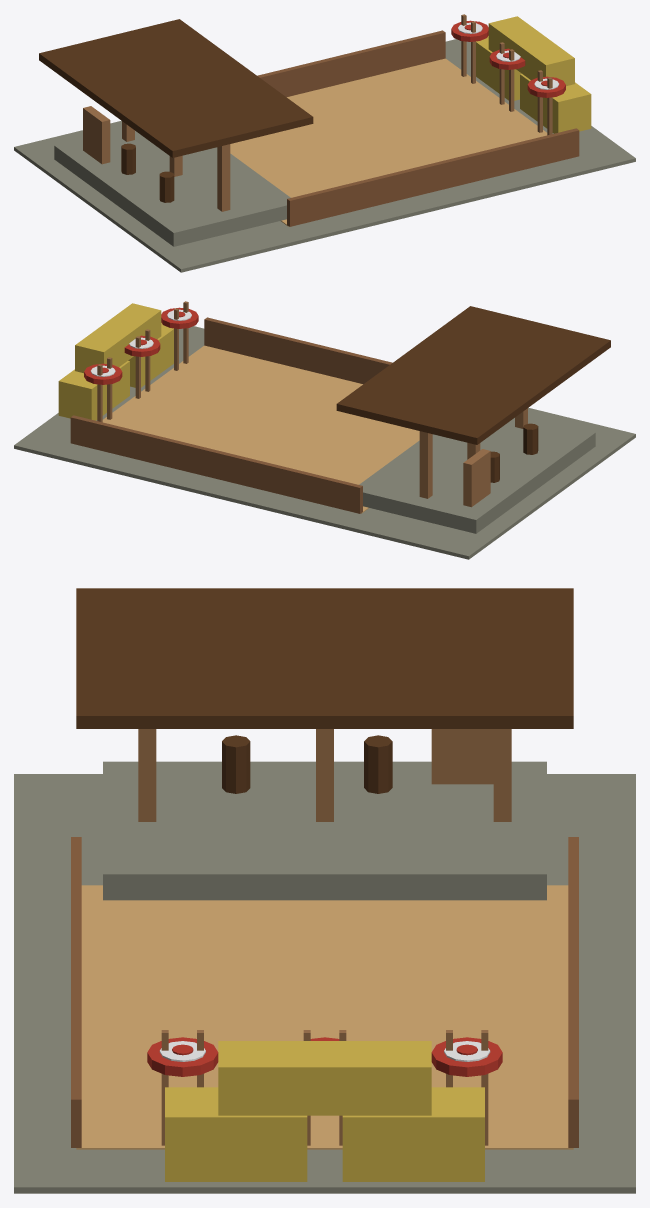
Rendered from archery_range.glb.
3 views of the same model, one above another, from view 1: azimuth 30°, elevation 25°; view 2: azimuth 150°, elevation 25°; view 3: azimuth 270°, elevation 25° (orthographic). The views are drawn at different scales.
Parts seen in each view (by area): view 1: Range, PlatRoof, Ground, Platform, Fence_L, Fence_R, StrawBack3, StrawBack1, BowRack, StrawBack2, SPost_-10, Quiver_-5 (+4 smaller); view 2: Range, PlatRoof, Ground, Platform, Fence_R, Fence_L, StrawBack3, StrawBack2, BowRack, StrawBack1, SPost_10, Quiver_-5 (+3 smaller); view 3: Range, PlatRoof, Ground, Platform, StrawBack3, StrawBack1, StrawBack2, BowRack, Fence_L, Fence_R, SPost_-10, SPost_10 (+5 smaller).
Part boxes in pixels (<box>): Range: <box>230,58,547,226</box>; PlatRoof: <box>39,19,313,157</box>; Ground: <box>14,39,635,272</box>; Platform: <box>54,129,290,246</box>; Fence_L: <box>287,128,579,226</box>; Fence_R: <box>257,30,445,97</box>; StrawBack3: <box>488,16,574,86</box>; StrawBack1: <box>520,74,591,133</box>; BowRack: <box>83,106,110,164</box>; StrawBack2: <box>476,36,521,100</box>; SPost_-10: <box>217,144,230,211</box>; Quiver_-5: <box>159,171,174,202</box>; Range: <box>102,345,419,513</box>; PlatRoof: <box>336,306,610,444</box>; Ground: <box>14,326,635,559</box>; Platform: <box>359,416,595,533</box>; Fence_R: <box>70,415,362,513</box>; Fence_L: <box>204,317,392,384</box>; StrawBack3: <box>75,303,161,373</box>; StrawBack2: <box>58,361,129,420</box>; BowRack: <box>463,449,490,507</box>; StrawBack1: <box>128,323,173,387</box>; SPost_10: <box>419,431,432,498</box>; Quiver_-5: <box>523,423,538,454</box>; Range: <box>76,885,573,1149</box>; PlatRoof: <box>76,588,573,728</box>; Ground: <box>14,774,635,1193</box>; Platform: <box>103,761,546,900</box>; StrawBack3: <box>218,1041,431,1115</box>; StrawBack1: <box>165,1087,307,1181</box>; StrawBack2: <box>342,1087,484,1181</box>; BowRack: <box>431,729,493,784</box>; Fence_L: <box>71,837,81,1147</box>; Fence_R: <box>568,837,578,1147</box>; SPost_-10: <box>138,729,156,821</box>; SPost_10: <box>493,729,511,821</box>.
Bounding box in the file's own units: 5.5 × 1.24 × 3.5.
